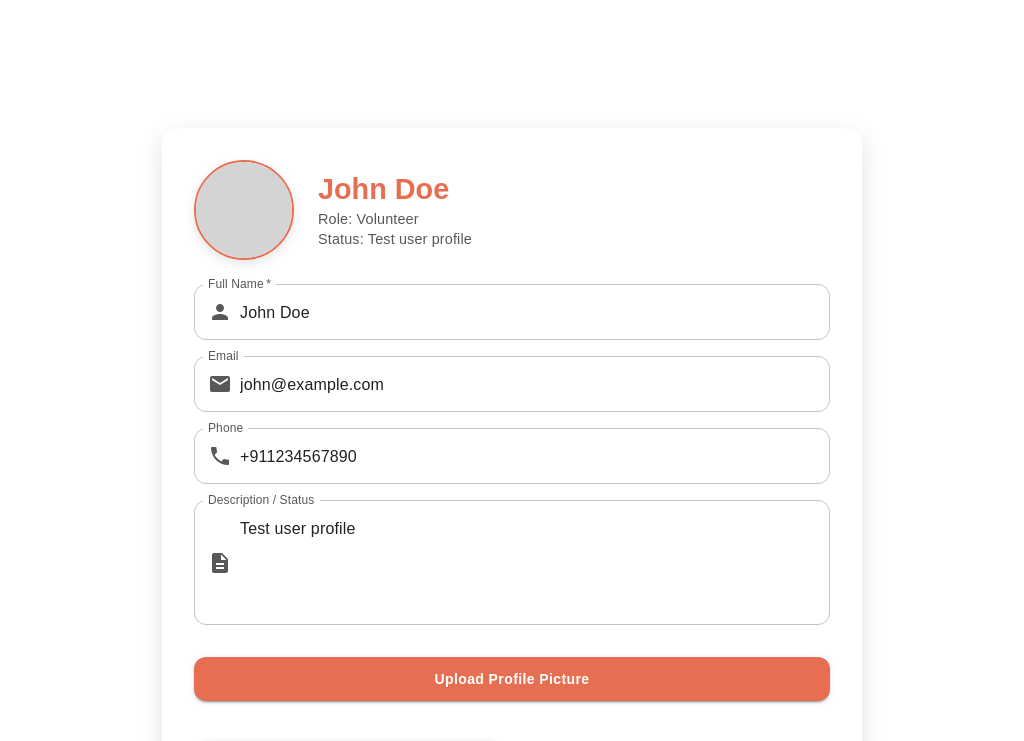
👤 ProfileSection Component › shows error when update fails
This screenshot has width=1024, height=741.
Expected: the heading "John Doe" is shown, x1=318 y1=170 x2=472 y2=209
Step 1. Replace the text in the field labelled "Full Name" with "John Doe Updated" → (535, 312), box x1=240 y1=284 x2=830 y2=340
(page scrolled)
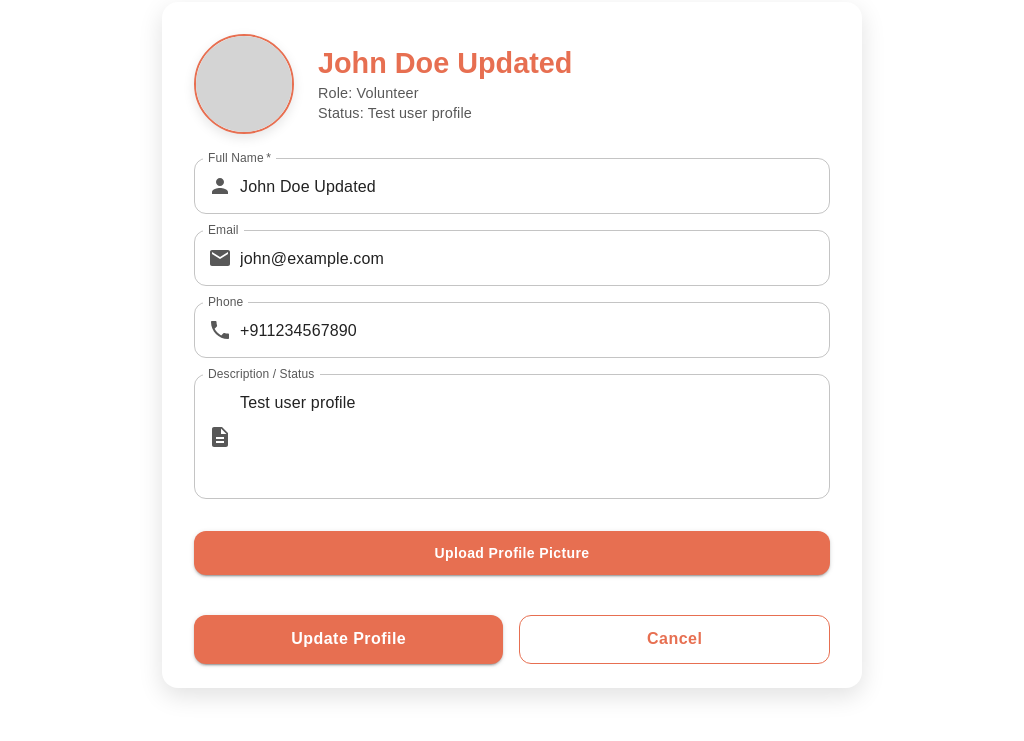
Step 2. Click the button "Update Profile" → (349, 639), box x1=194 y1=615 x2=504 y2=664
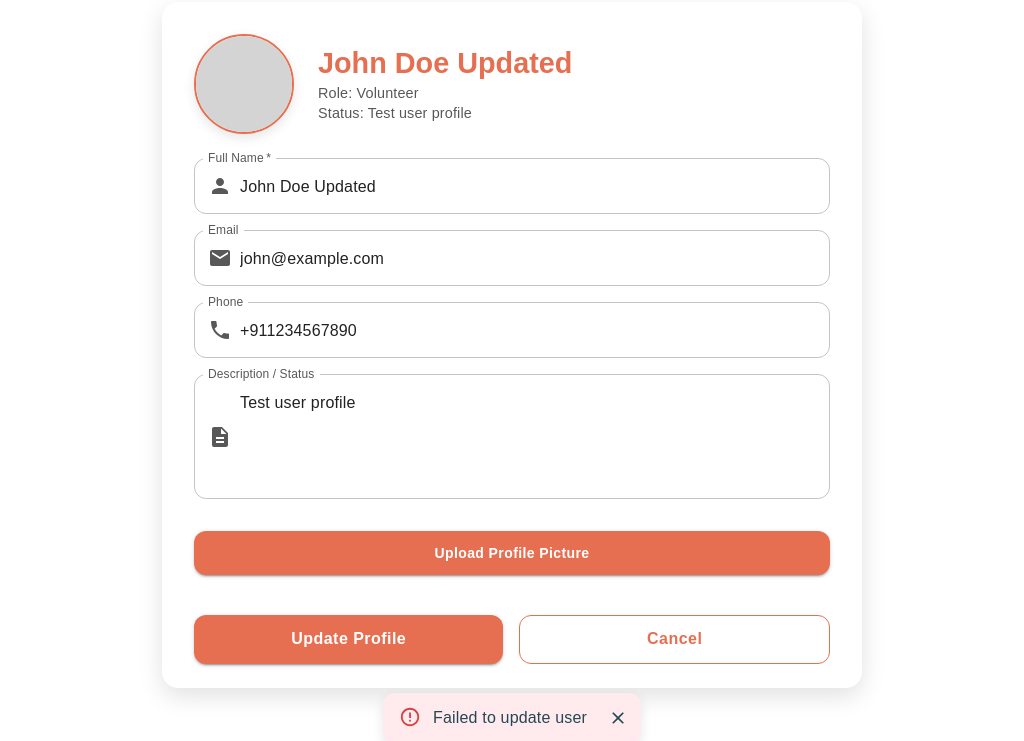
Result: the text "Failed to update user" is shown at x1=433 y1=709 x2=587 y2=726
